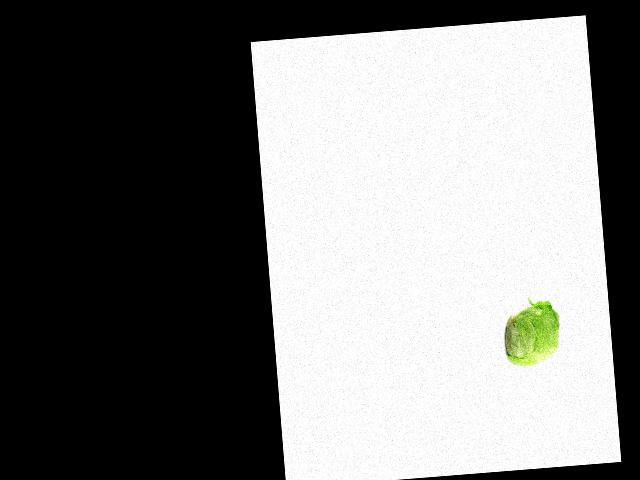lettuce: (499, 302, 565, 370)
